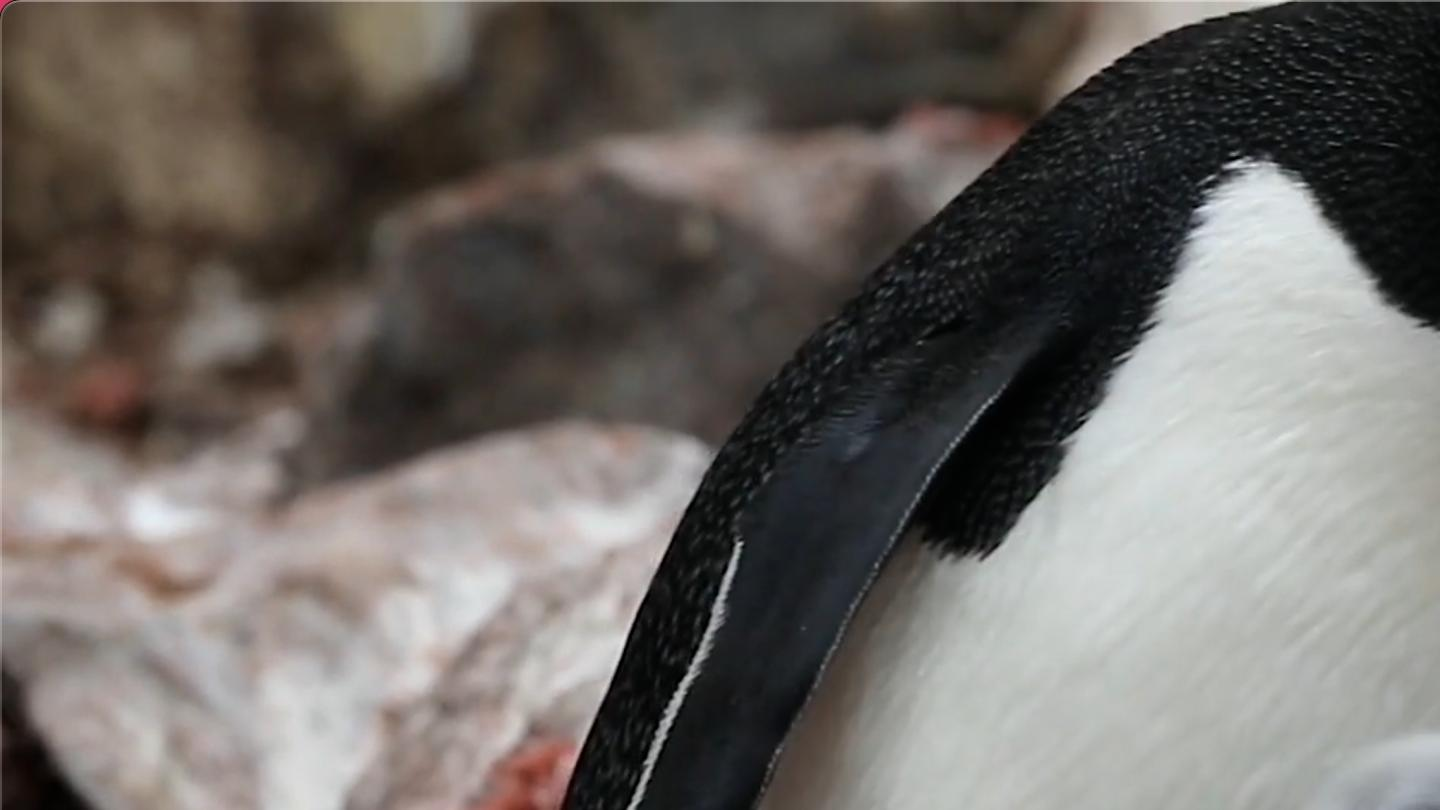Chinstrap Penguin: (876, 0, 1440, 682)
